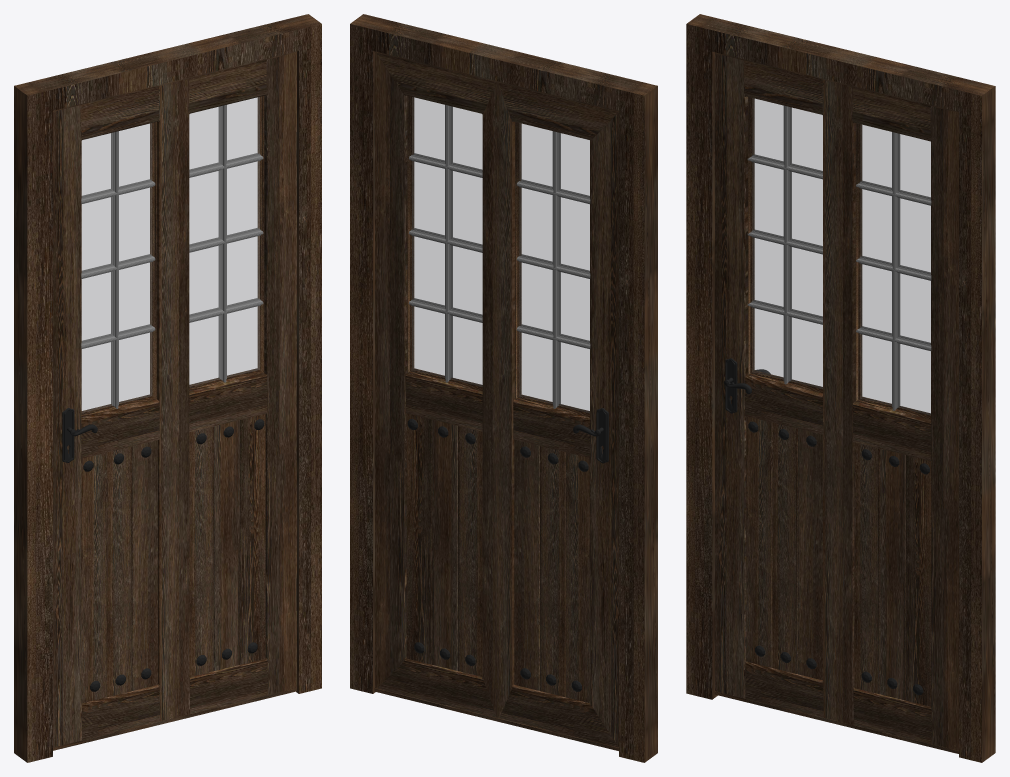
File: old door7.FBX
The picture shows the model from 3 angles, left to right: view 1: azimuth 30°, elevation 25°; view 2: azimuth 150°, elevation 25°; view 3: azimuth 330°, elevation 25°; orthographic projection.
Visible parts, largest first — view 1: Door7, old door7; view 2: Door7, old door7; view 3: Door7, old door7.
Part boxes in pixels (x1,y1,x2,y2): Door7: [53, 51, 296, 750]; old door7: [14, 14, 321, 762]; Door7: [374, 51, 618, 750]; old door7: [350, 14, 657, 762]; Door7: [714, 52, 958, 753]; old door7: [686, 14, 995, 762].
Size of the model in its own units: 961 by 122 by 2080.
